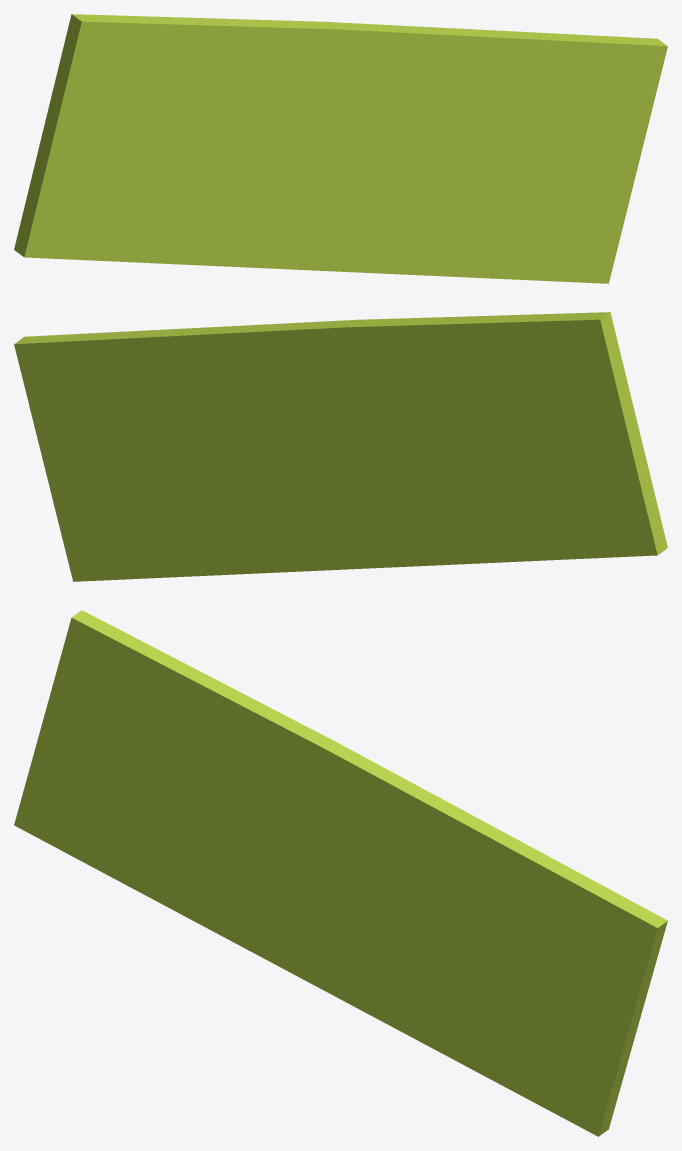
The picture shows the model from 3 angles, top to bottom: view 1: azimuth 30°, elevation 25°; view 2: azimuth 150°, elevation 25°; view 3: azimuth 330°, elevation 25°; orthographic projection.
Visible parts, largest first — view 1: osm-way27917482-F3; view 2: osm-way27917482-F3; view 3: osm-way27917482-F3.
Boxes of the visible parts, <box> form: osm-way27917482-F3: <box>14,14,667,283</box>; osm-way27917482-F3: <box>14,312,667,581</box>; osm-way27917482-F3: <box>14,610,667,1136</box>.
Bounding box in the file's own units: 5.41 × 3.14 × 0.15.
